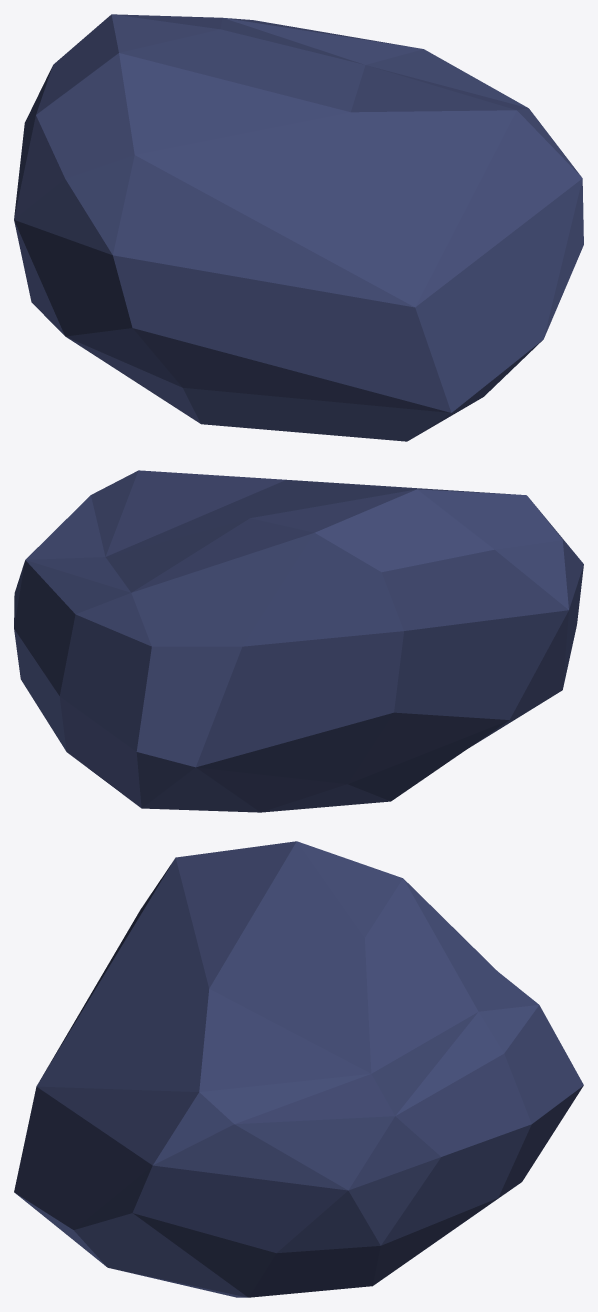
Rendered from small-rock-1.fbx.
The picture shows the model from 3 angles, top to bottom: view 1: azimuth 30°, elevation 25°; view 2: azimuth 150°, elevation 25°; view 3: azimuth 270°, elevation 25°; orthographic projection. The views are drawn at different scales.
Visible parts, largest first — view 1: Cube; view 2: Cube; view 3: Cube.
Boxes of the visible parts, left/top/right/bottom form: Cube: left=14, top=14, right=583, bottom=441; Cube: left=14, top=470, right=583, bottom=812; Cube: left=14, top=841, right=583, bottom=1297.
Size of the model in its own units: 217 by 143 by 220.
